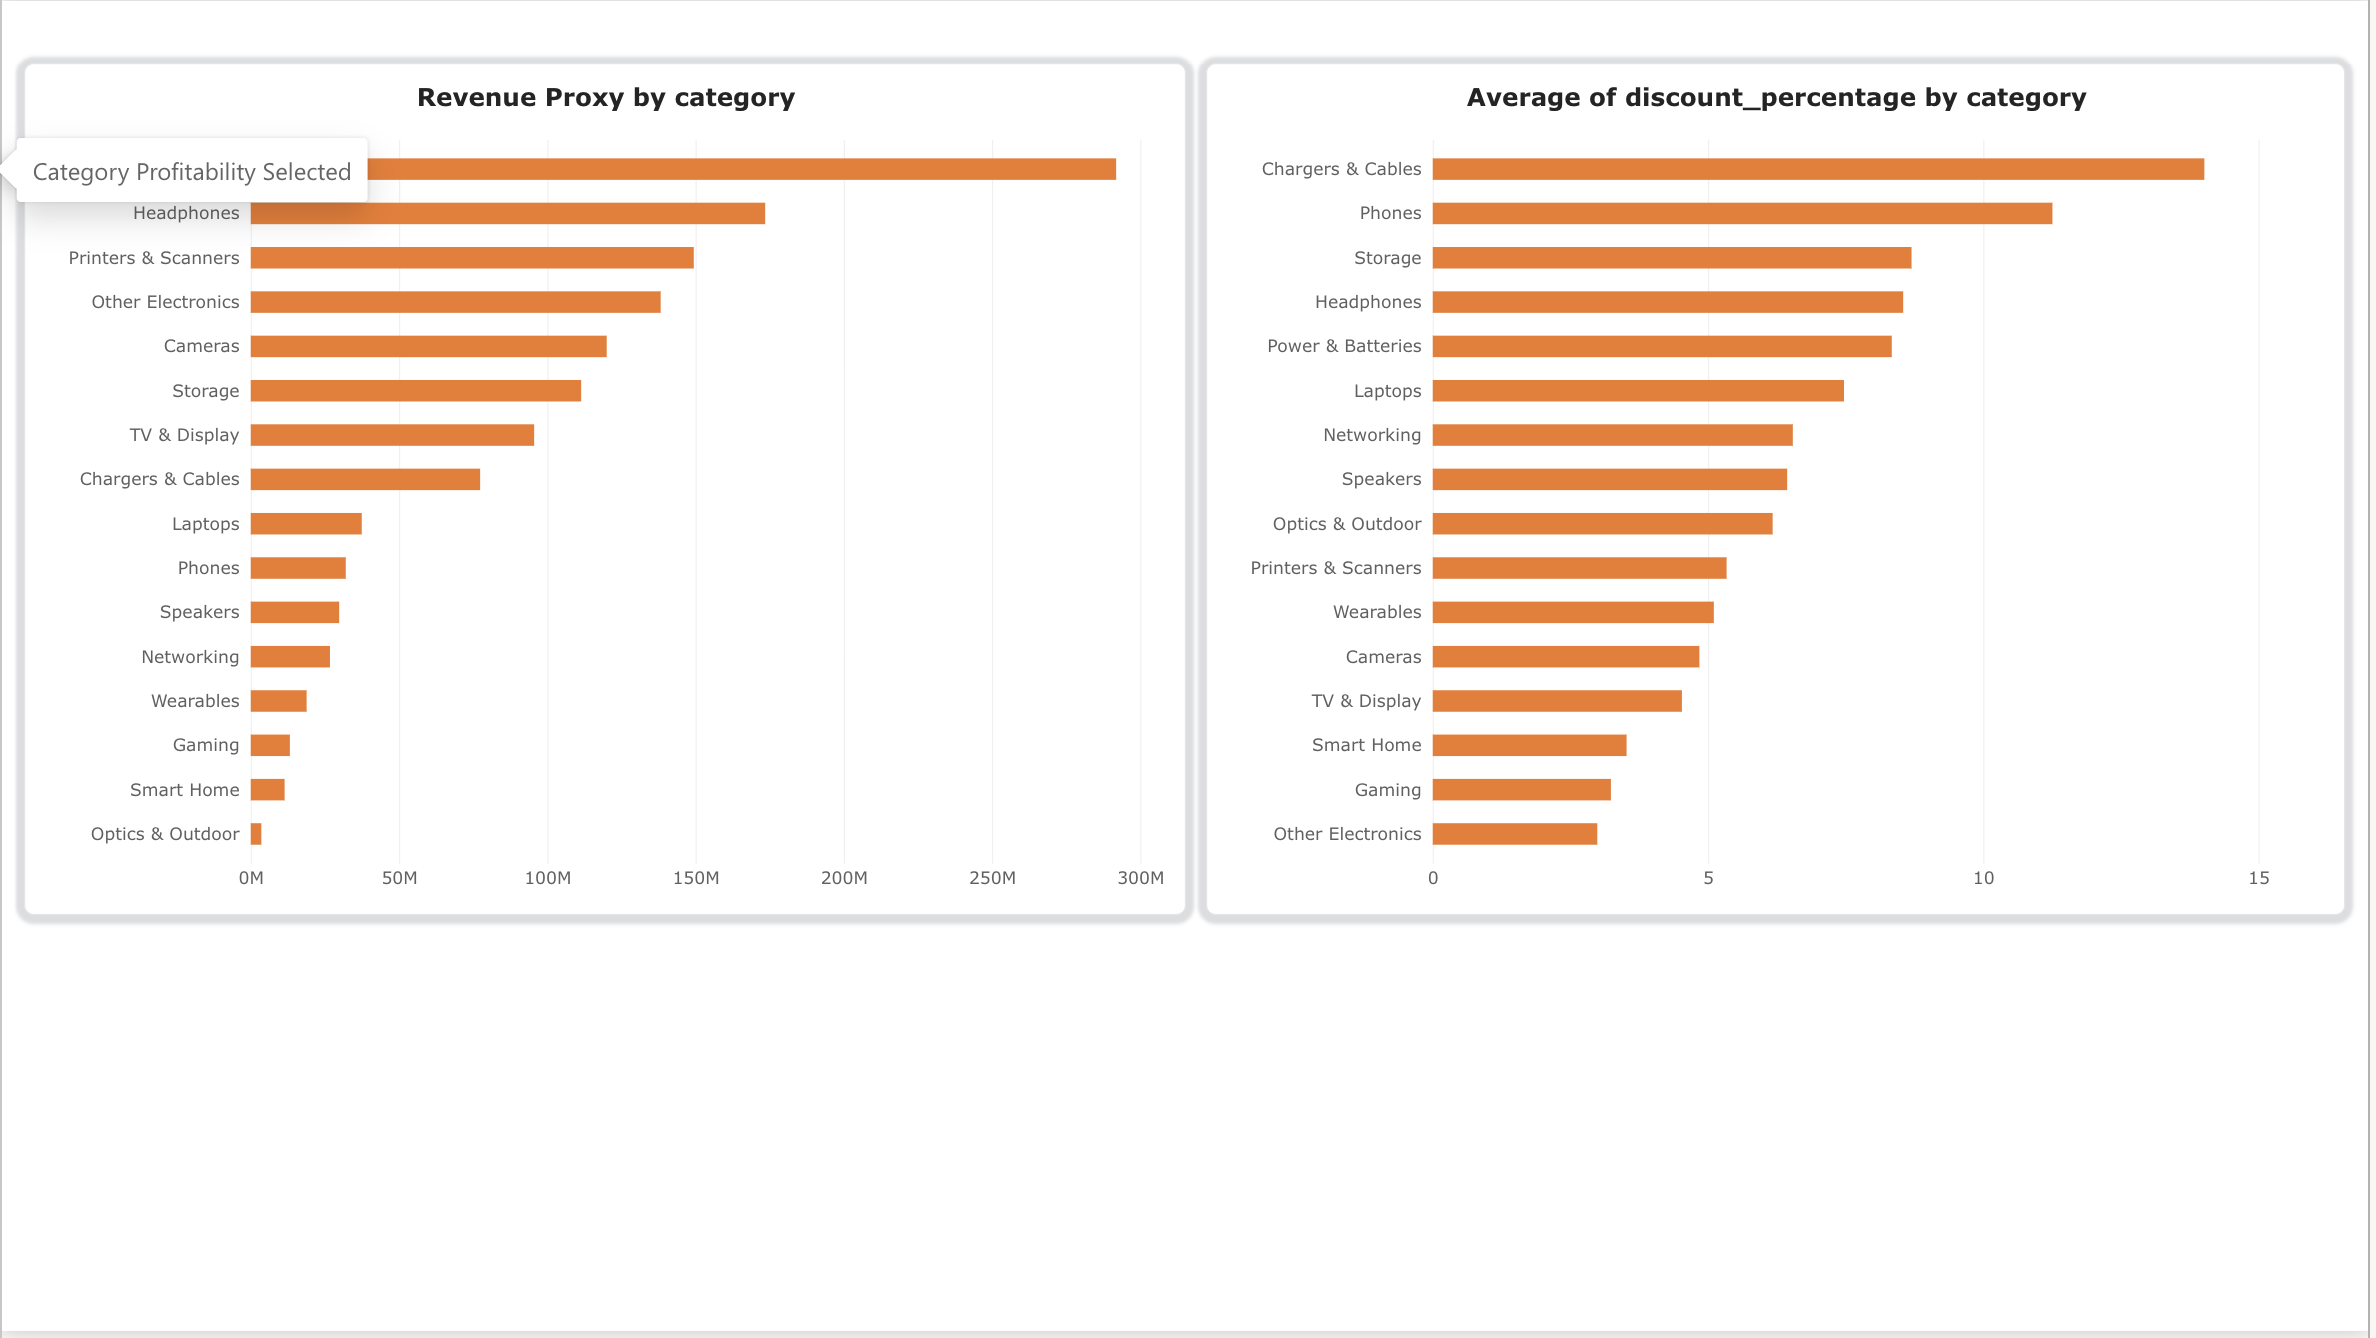

The page's visual inventory and layout, read from the dashboard file:
{"tool":"powerbi","page":{"name":"Category Profitability","canvas":[1920,1080],"ordinal":2},"visuals":[{"type":"clusteredBarChart","fields":{"Category":["Amazon Sales Data.category"],"Y":["Amazon Sales Data.Revenue Proxy"]},"box":[18.1,50.7,942.8,691.3],"z":0},{"type":"clusteredBarChart","fields":{"Category":["Amazon Sales Data.category"],"Y":["Avg(Amazon Sales Data.discount_percentage)"]},"box":[977.2,50.7,924.7,691.3],"z":1000}]}

Visuals, with their boxes in screenshot pixels (x1, y1, x2, y2), scaled from the page's 1920x1080 canvas onto the 2376x1338 screenshot:
clusteredBarChart - Amazon Sales Data.category x Amazon Sales Data.Revenue Proxy: BBox(22, 63, 1189, 919)
clusteredBarChart - Amazon Sales Data.category x Avg(Amazon Sales Data.discount_percentage): BBox(1209, 63, 2354, 919)
